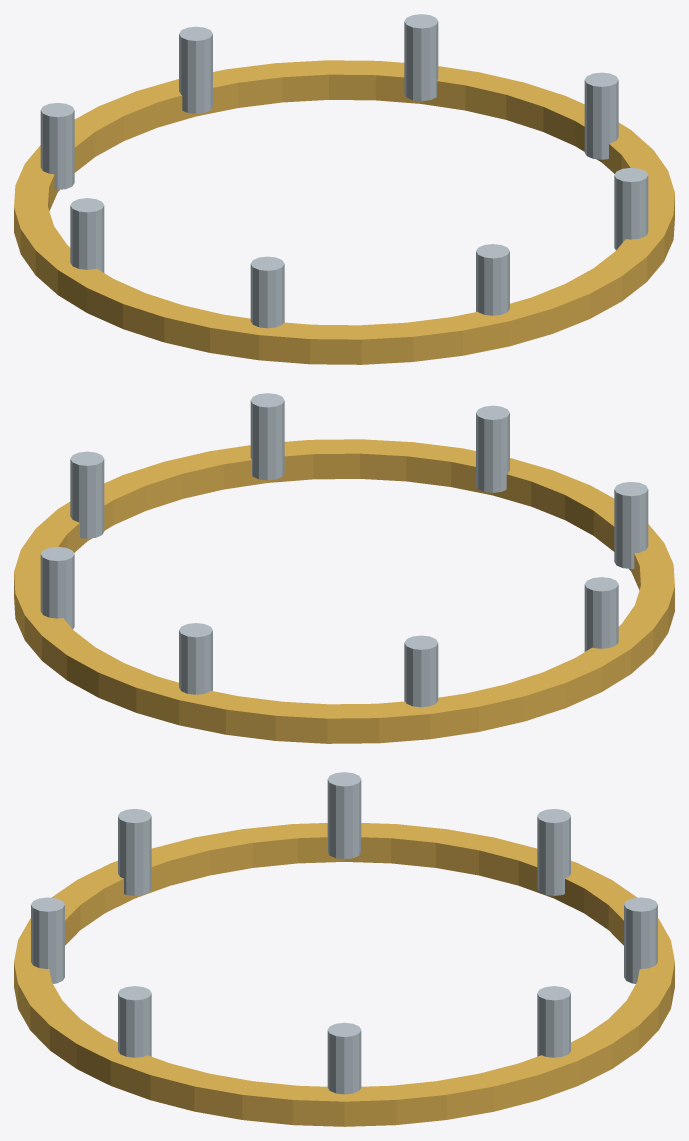
Rendered from 13_L77_BulkDownforceLoadCell.fbx.
The picture shows the model from 3 angles, top to bottom: view 1: azimuth 30°, elevation 25°; view 2: azimuth 150°, elevation 25°; view 3: azimuth 270°, elevation 25°; orthographic projection.
Visible parts, largest first — view 1: BulkDownforceLoadCell_Part_0000, BulkDownforceLoadCell_Part_0008, BulkDownforceLoadCell_Part_0007, BulkDownforceLoadCell_Part_0001, BulkDownforceLoadCell_Part_0006, BulkDownforceLoadCell_Part_0002, BulkDownforceLoadCell_Part_0005, BulkDownforceLoadCell_Part_0004, BulkDownforceLoadCell_Part_0003; view 2: BulkDownforceLoadCell_Part_0000, BulkDownforceLoadCell_Part_0002, BulkDownforceLoadCell_Part_0003, BulkDownforceLoadCell_Part_0001, BulkDownforceLoadCell_Part_0004, BulkDownforceLoadCell_Part_0008, BulkDownforceLoadCell_Part_0005, BulkDownforceLoadCell_Part_0006, BulkDownforceLoadCell_Part_0007; view 3: BulkDownforceLoadCell_Part_0000, BulkDownforceLoadCell_Part_0005, BulkDownforceLoadCell_Part_0004, BulkDownforceLoadCell_Part_0006, BulkDownforceLoadCell_Part_0003, BulkDownforceLoadCell_Part_0007, BulkDownforceLoadCell_Part_0001, BulkDownforceLoadCell_Part_0002, BulkDownforceLoadCell_Part_0008.
Boxes of the visible parts, bbox=[...] form: BulkDownforceLoadCell_Part_0000: bbox=[14, 60, 674, 364]; BulkDownforceLoadCell_Part_0008: bbox=[404, 14, 438, 101]; BulkDownforceLoadCell_Part_0007: bbox=[179, 26, 212, 113]; BulkDownforceLoadCell_Part_0001: bbox=[584, 72, 618, 159]; BulkDownforceLoadCell_Part_0006: bbox=[40, 103, 74, 189]; BulkDownforceLoadCell_Part_0002: bbox=[614, 167, 648, 250]; BulkDownforceLoadCell_Part_0005: bbox=[70, 198, 104, 272]; BulkDownforceLoadCell_Part_0004: bbox=[250, 256, 284, 328]; BulkDownforceLoadCell_Part_0003: bbox=[476, 244, 509, 315]; BulkDownforceLoadCell_Part_0000: bbox=[14, 439, 674, 743]; BulkDownforceLoadCell_Part_0002: bbox=[250, 393, 284, 480]; BulkDownforceLoadCell_Part_0003: bbox=[476, 405, 509, 492]; BulkDownforceLoadCell_Part_0001: bbox=[70, 451, 104, 538]; BulkDownforceLoadCell_Part_0004: bbox=[614, 482, 648, 568]; BulkDownforceLoadCell_Part_0008: bbox=[40, 546, 74, 629]; BulkDownforceLoadCell_Part_0005: bbox=[584, 577, 618, 651]; BulkDownforceLoadCell_Part_0006: bbox=[404, 635, 438, 707]; BulkDownforceLoadCell_Part_0007: bbox=[179, 623, 212, 694]; BulkDownforceLoadCell_Part_0000: bbox=[14, 823, 674, 1126]; BulkDownforceLoadCell_Part_0005: bbox=[327, 772, 361, 859]; BulkDownforceLoadCell_Part_0004: bbox=[118, 809, 151, 895]; BulkDownforceLoadCell_Part_0006: bbox=[537, 809, 570, 895]; BulkDownforceLoadCell_Part_0003: bbox=[31, 897, 64, 983]; BulkDownforceLoadCell_Part_0007: bbox=[624, 897, 657, 983]; BulkDownforceLoadCell_Part_0001: bbox=[327, 1022, 361, 1094]; BulkDownforceLoadCell_Part_0002: bbox=[118, 986, 151, 1057]; BulkDownforceLoadCell_Part_0008: bbox=[537, 986, 570, 1057].
Size of the model in its own units: 214 by 29.5 by 214.
